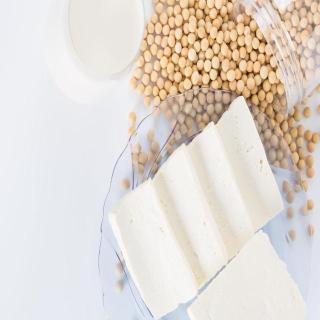Tahu: (77, 100, 311, 320)
